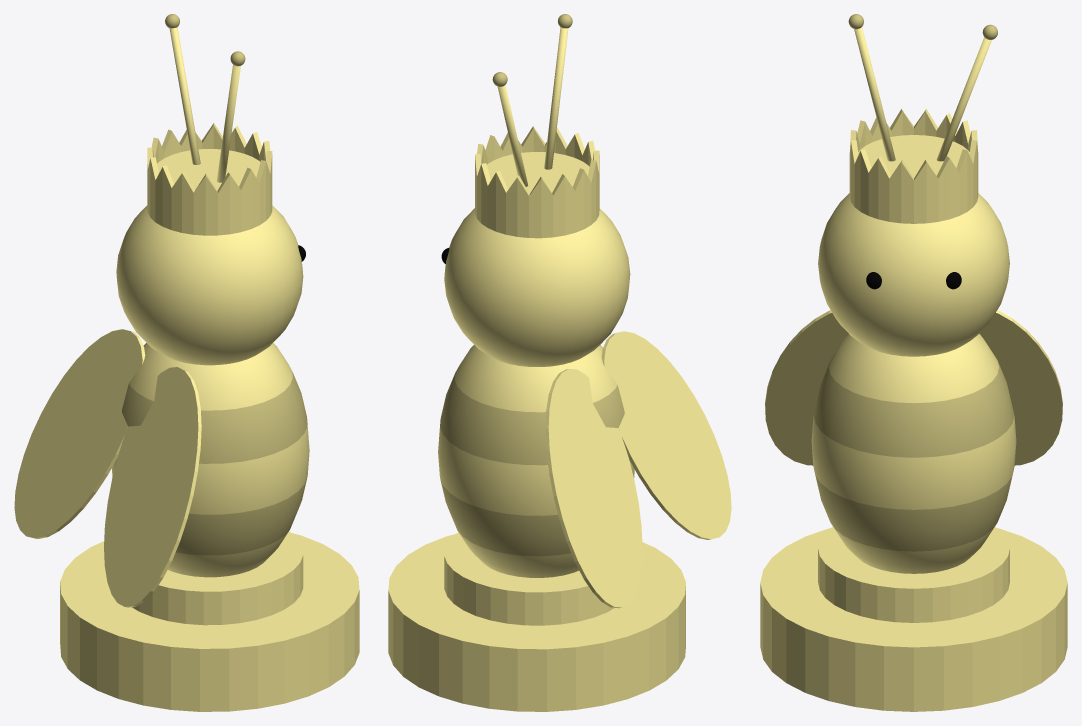
File: QBee.glb
3 views of the same model, side by side, from view 1: azimuth 30°, elevation 25°; view 2: azimuth 150°, elevation 25°; view 3: azimuth 270°, elevation 25° (orthographic). The views are drawn at different scales.
Parts seen in each view (by area): view 1: Cylinder.006, Sphere.001, Sphere, Cylinder.004, Cylinder.003, Cylinder.002, Cylinder.005, Cylinder.001, Cylinder; view 2: Cylinder.006, Sphere.001, Sphere, Cylinder.003, Cylinder.004, Cylinder.002, Cylinder.005, Cylinder, Cylinder.001; view 3: Sphere.001, Cylinder.006, Sphere, Cylinder.002, Cylinder.005, Cylinder.003, Cylinder.004, Cylinder, Cylinder.001.
Boxes of the visible parts, x1,y1,x2,y2 form: Cylinder.006: (60,533,359,711); Sphere.001: (111,343,309,577); Sphere: (116,205,303,365); Cylinder.004: (104,367,201,607); Cylinder.003: (14,329,145,538); Cylinder.002: (147,123,272,235); Cylinder.005: (132,531,303,625); Cylinder.001: (169,27,200,164); Cylinder: (216,65,240,182); Cylinder.006: (388,534,685,711); Sphere.001: (438,345,634,577); Sphere: (444,208,630,366); Cylinder.003: (545,369,642,608); Cylinder.004: (601,331,731,539); Cylinder.002: (475,126,599,238); Cylinder.005: (444,532,613,625); Cylinder: (544,27,568,169); Cylinder.001: (497,85,528,186); Sphere.001: (811,334,1016,573); Cylinder.006: (760,528,1067,711); Sphere: (818,193,1009,356); Cylinder.002: (849,109,978,223); Cylinder.005: (818,527,1009,622); Cylinder.003: (979,310,1062,465); Cylinder.004: (765,310,848,465); Cylinder: (854,27,895,161); Cylinder.001: (936,37,991,161).
Bounding box in the file's own units: 3.3 × 7.27 × 3.2.
